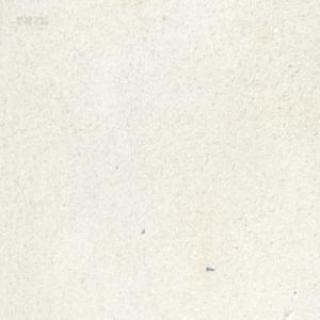Nailtrack_idkeyframe: (205, 264, 214, 271)
